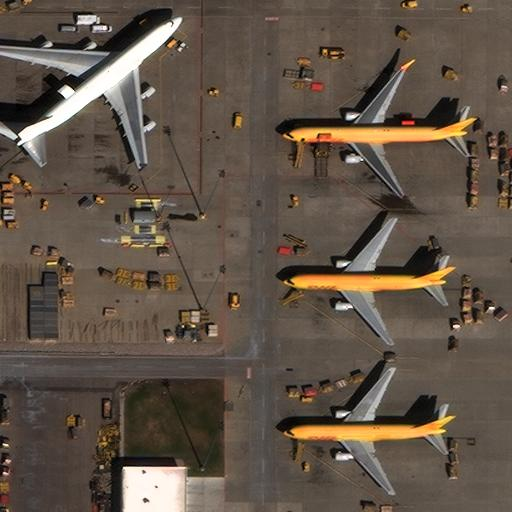Large Civil Transport: (0, 16, 182, 164), (282, 66, 466, 199), (282, 217, 446, 346), (281, 368, 446, 495)
